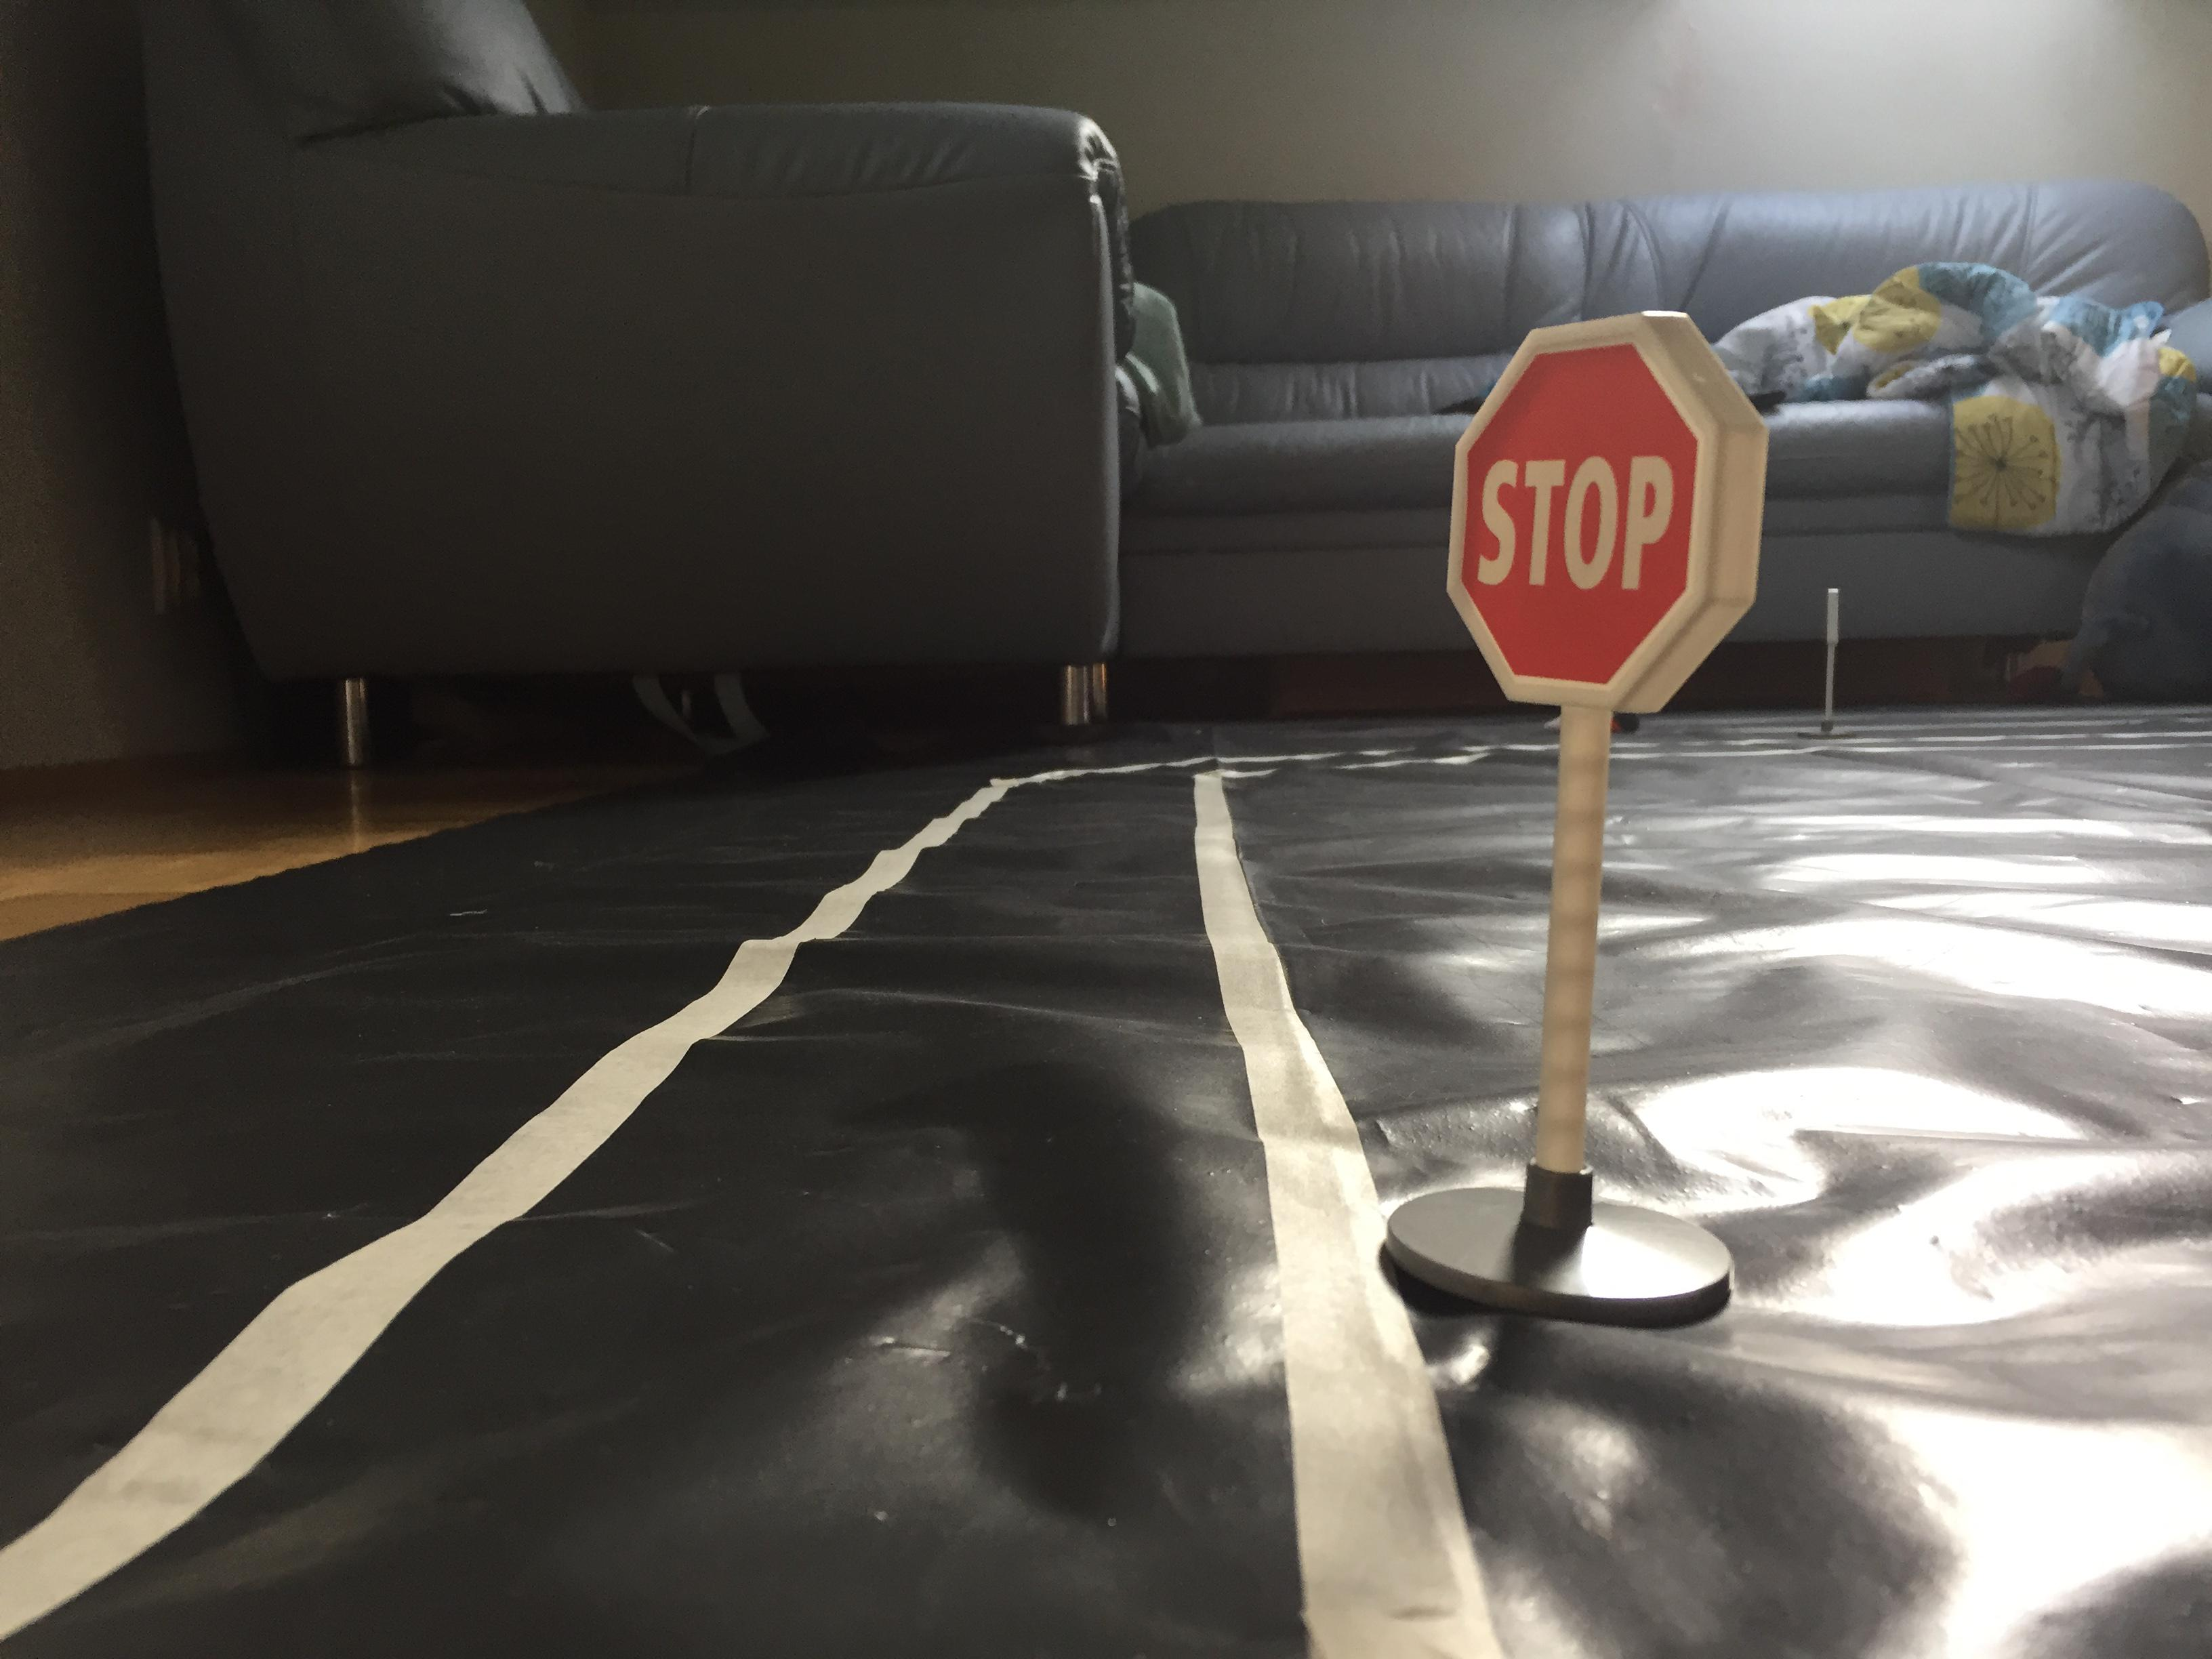stop: (1428, 300, 1773, 725)
